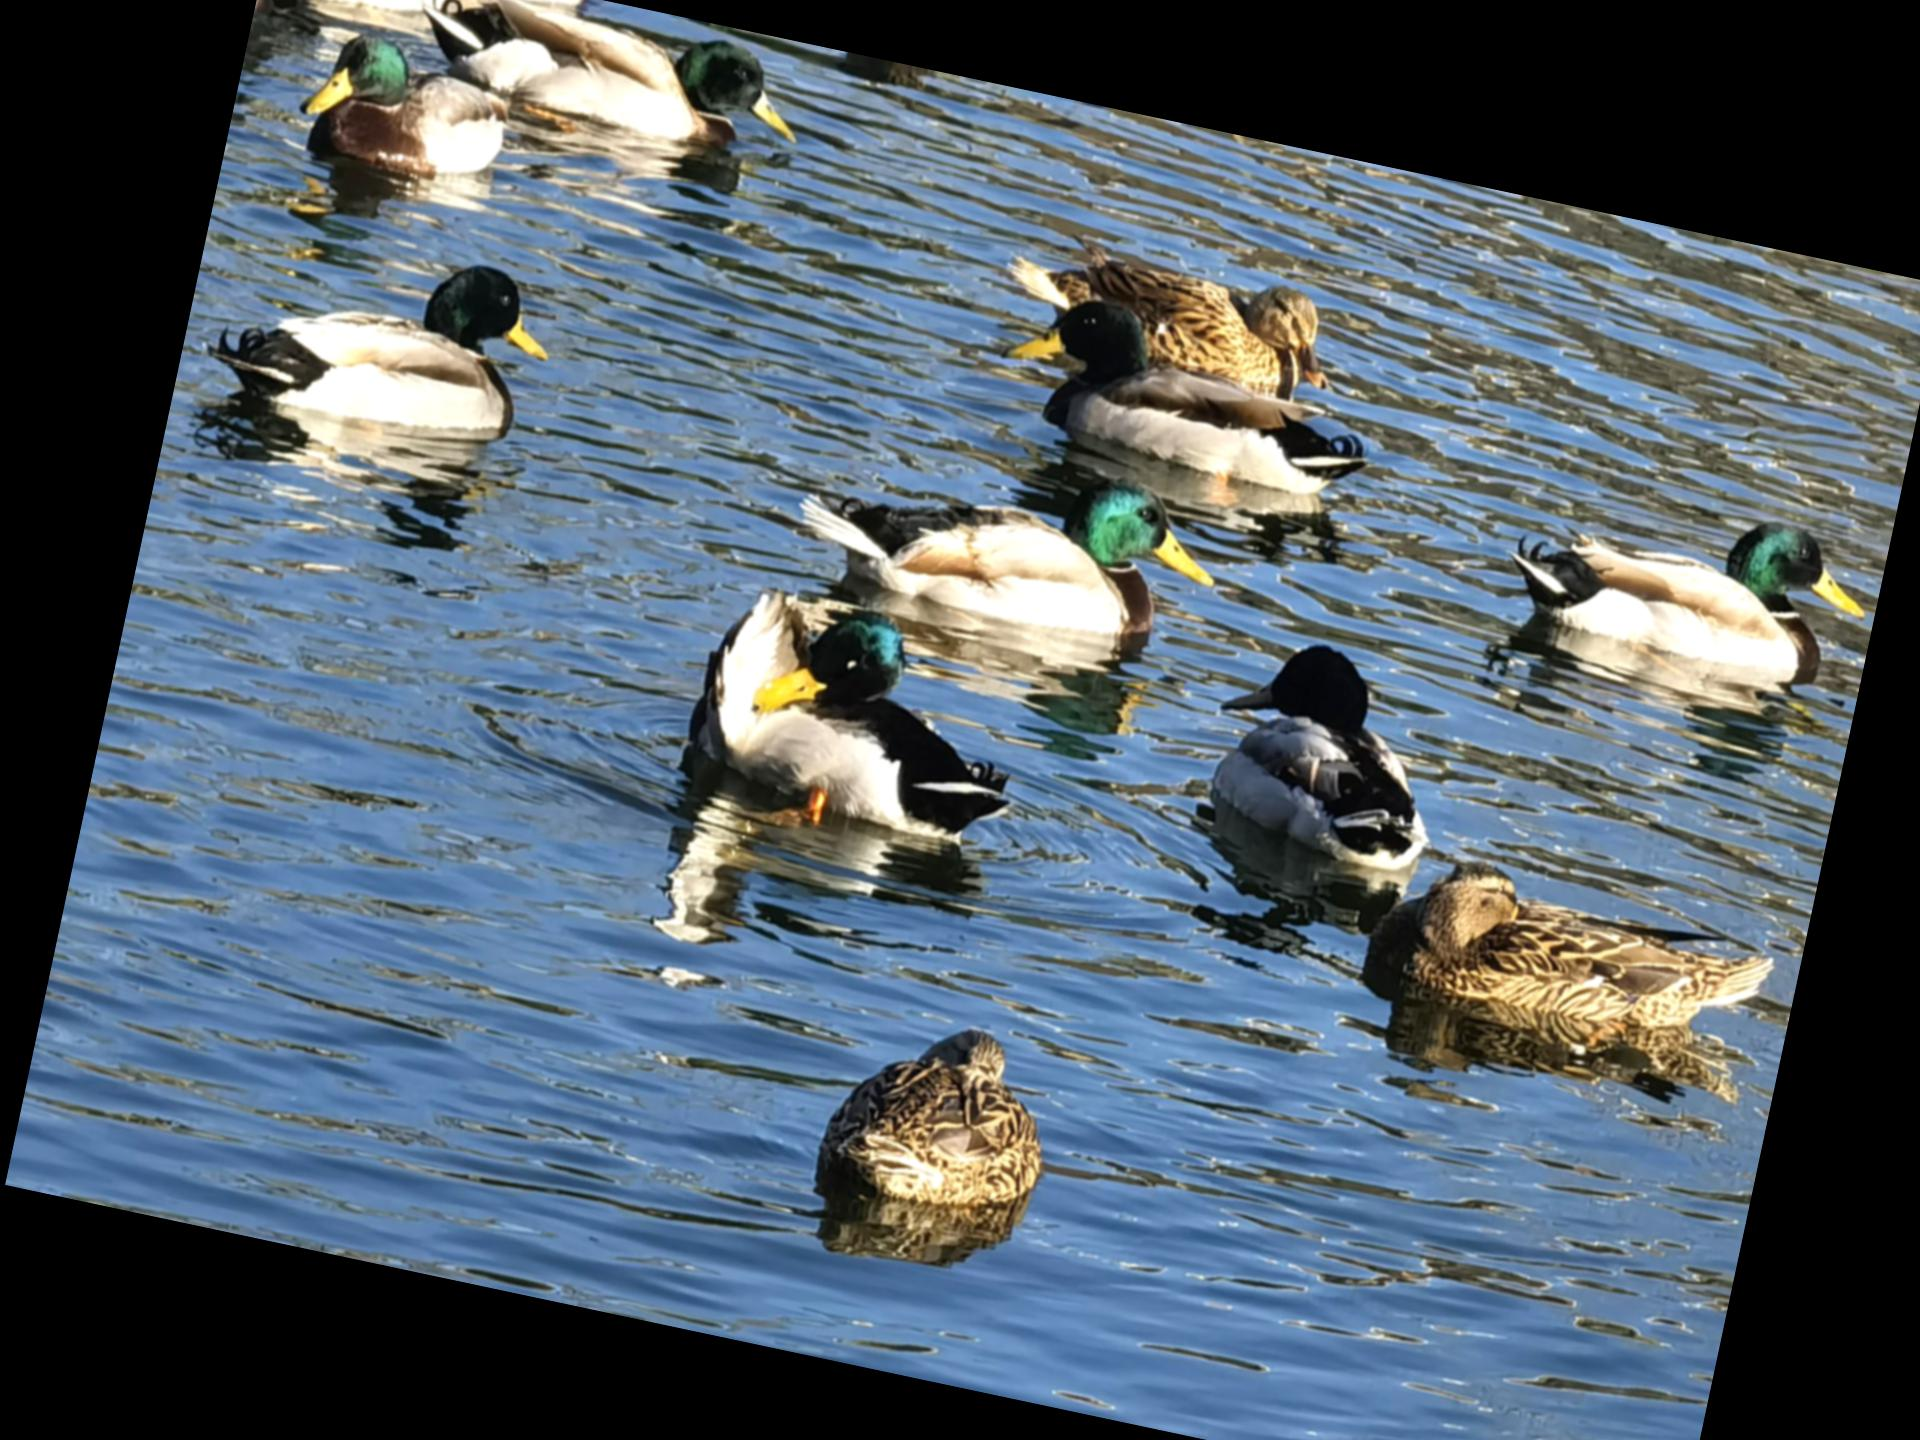duck: (774, 405, 1241, 688), (1350, 827, 1810, 1110), (186, 191, 576, 489), (1479, 452, 1891, 734), (665, 567, 1051, 867), (968, 278, 1401, 538), (1169, 593, 1482, 891), (404, 0, 819, 194), (989, 209, 1383, 411), (794, 992, 1082, 1268), (287, 6, 535, 206)
